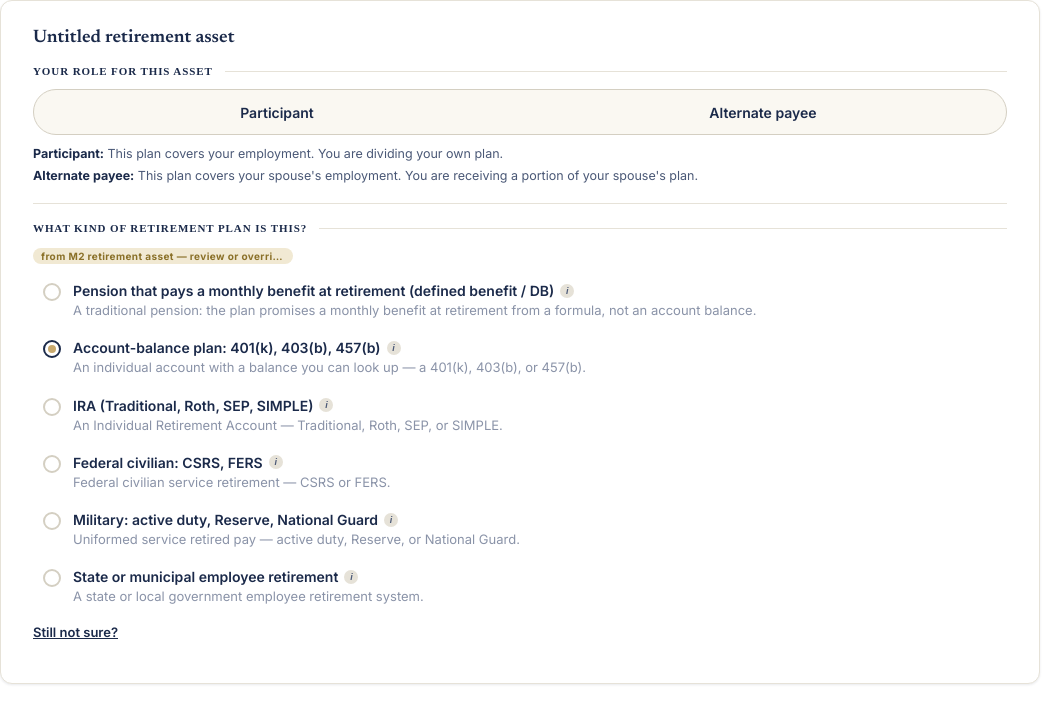
Test: QDROAssetCard — pre-pop provenance badge (§8.3.4 / §10.7) › clears the badge once the user overrides planType (§10.7)
expect the text "from M2 retirement asset — review or override" is shown: met, box [33,248,293,264]
Click the radio button with test id "wizard-radio-input-ira".
click(273, 415)  # box [43,397,503,433]
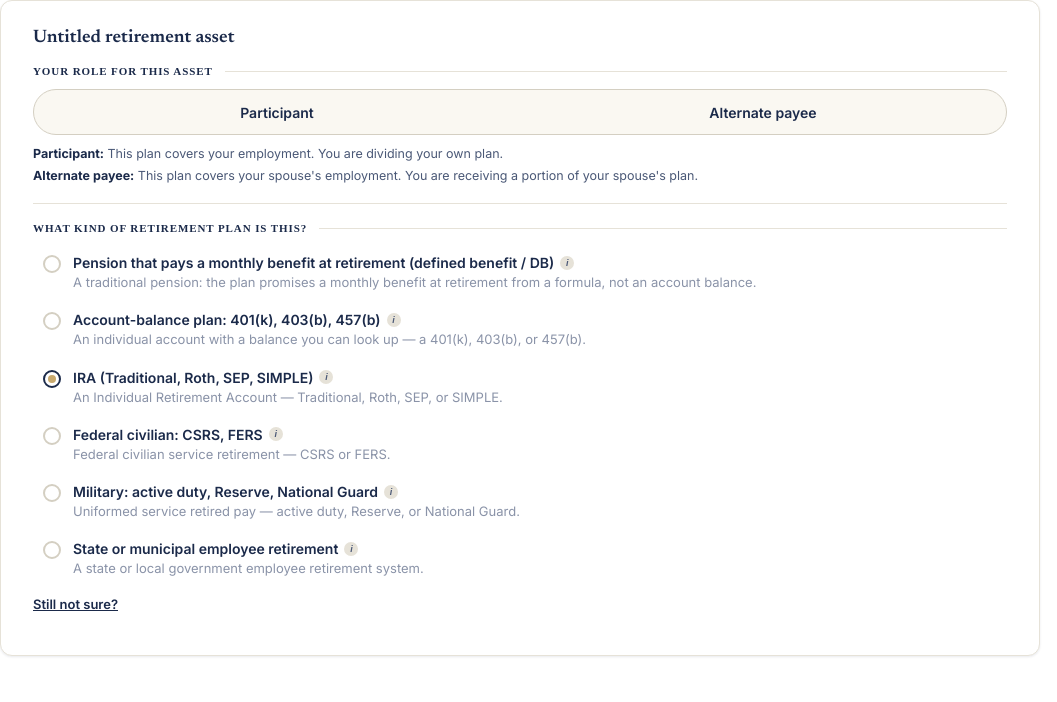
expect the text "review or override" is gone: met
